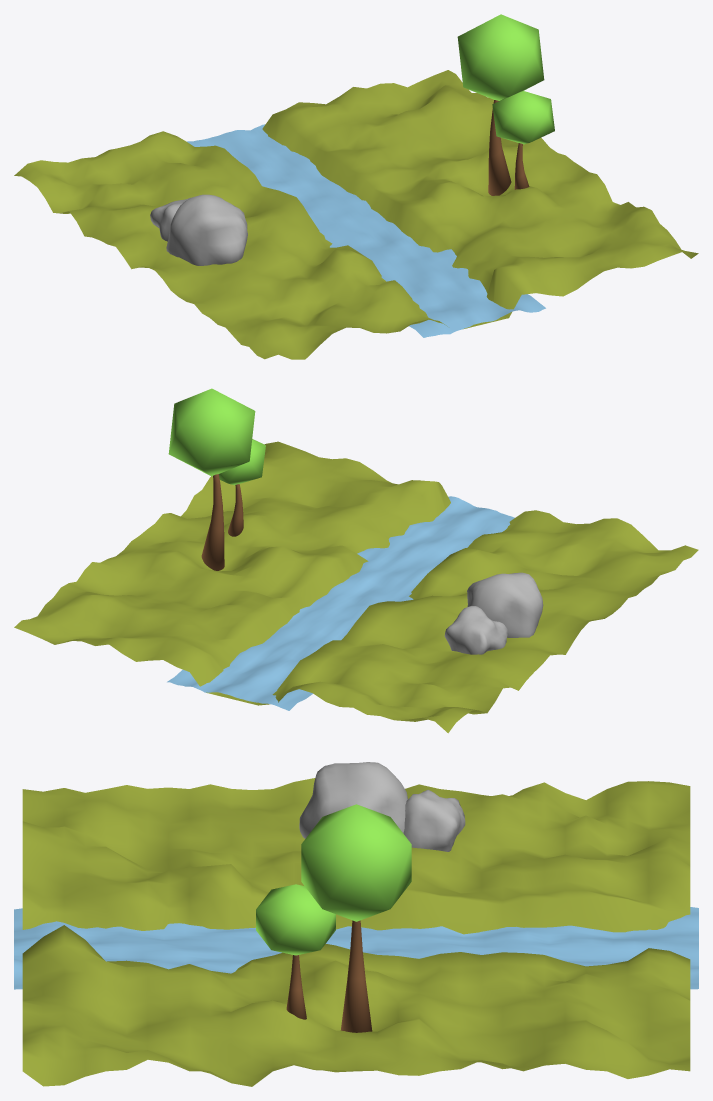
The model's file is goodworld.glb.
3 renders of one model, top to bottom at view 1: azimuth 30°, elevation 25°; view 2: azimuth 150°, elevation 25°; view 3: azimuth 270°, elevation 25°, orthographic. The views are drawn at different scales.
Parts seen in each view (by area): view 1: Plane; view 2: Plane; view 3: Plane.
Part boxes in pixels (x1,y1,x2,y2): Plane: (14,14,698,359); Plane: (14,388,698,733); Plane: (14,762,698,1086).
Bounding box in the file's own units: 10.29 × 4.32 × 10.56.
